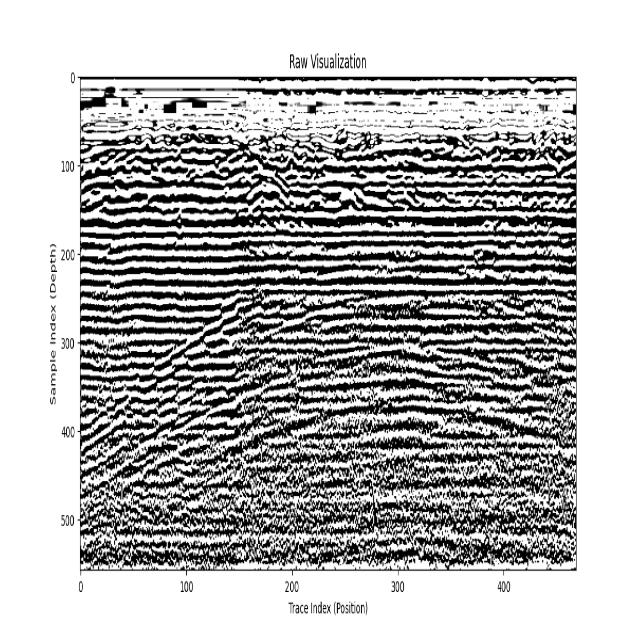anomaly: (78, 286, 282, 494)
